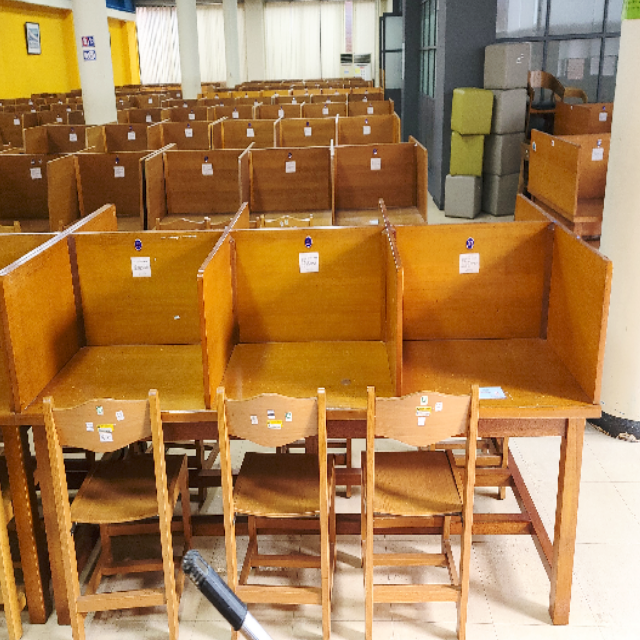empty: (415, 218, 620, 538), (1, 220, 218, 516), (222, 216, 408, 505)
